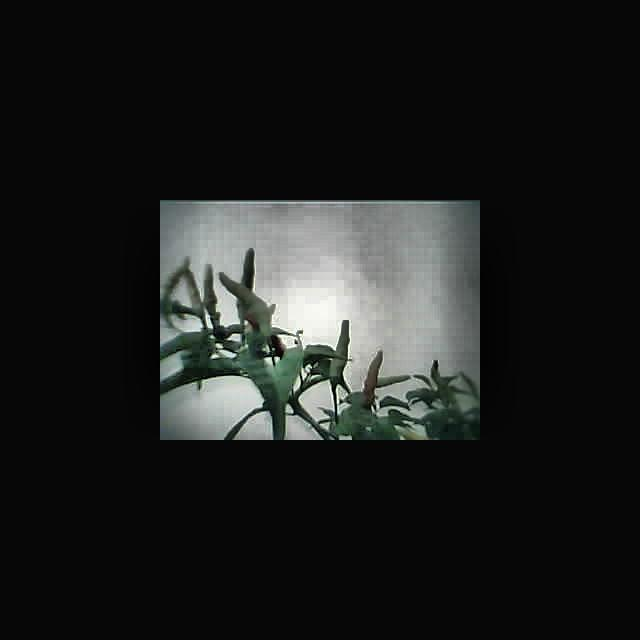Cabai: (364, 348, 387, 402)
